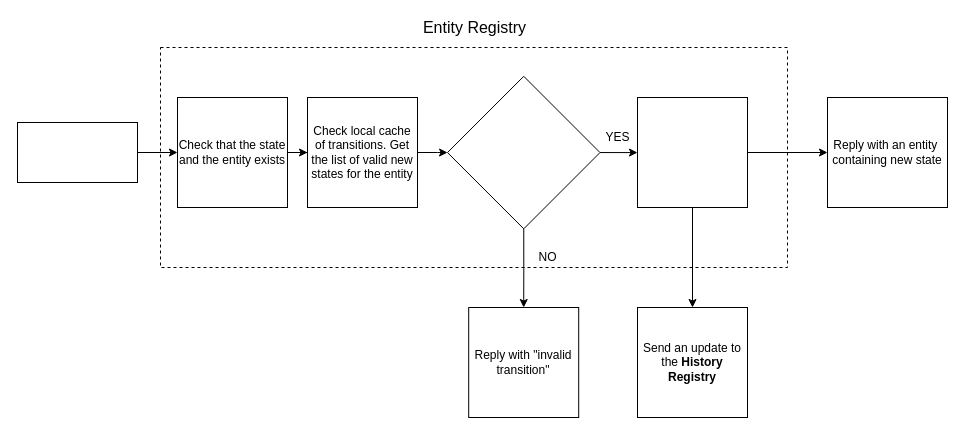
Image size: 965x435. Some labels were removed from this diagram. Each missing label, with the centre of its shape:
"Send state update to the entity" goes at [77,152].
"The transition is valid" goes at [523,152].
"Update the state of the entity" goes at [692,152].
